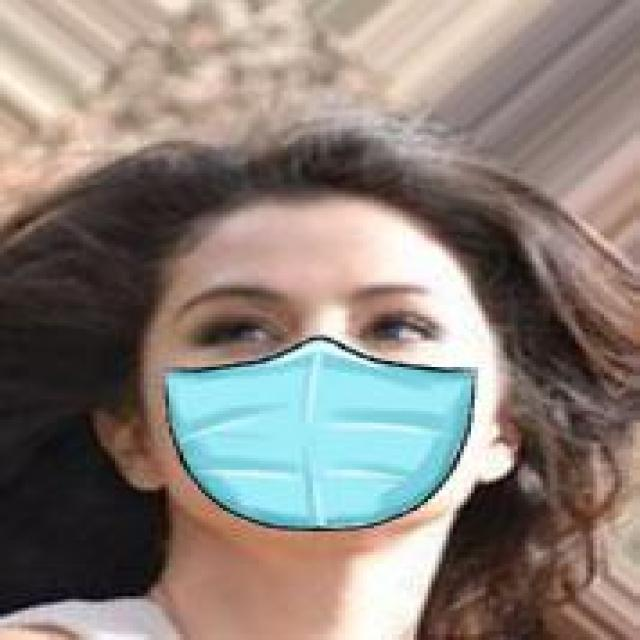mask: (79, 70, 604, 570)
